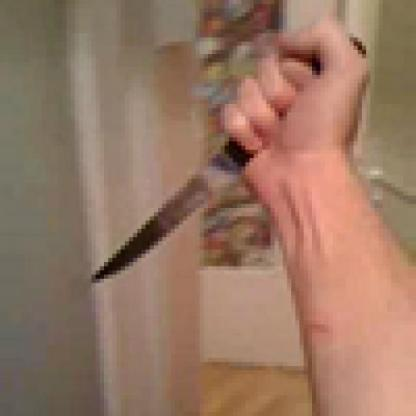Knife: (92, 0, 354, 300)
